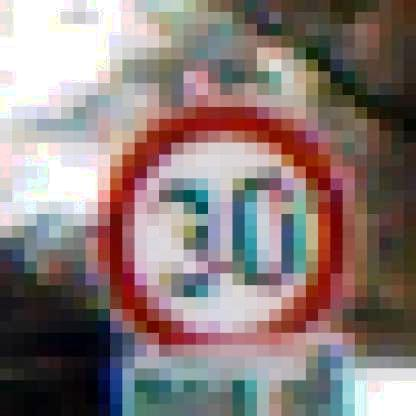Speed Limit -30-: (91, 95, 372, 370)
